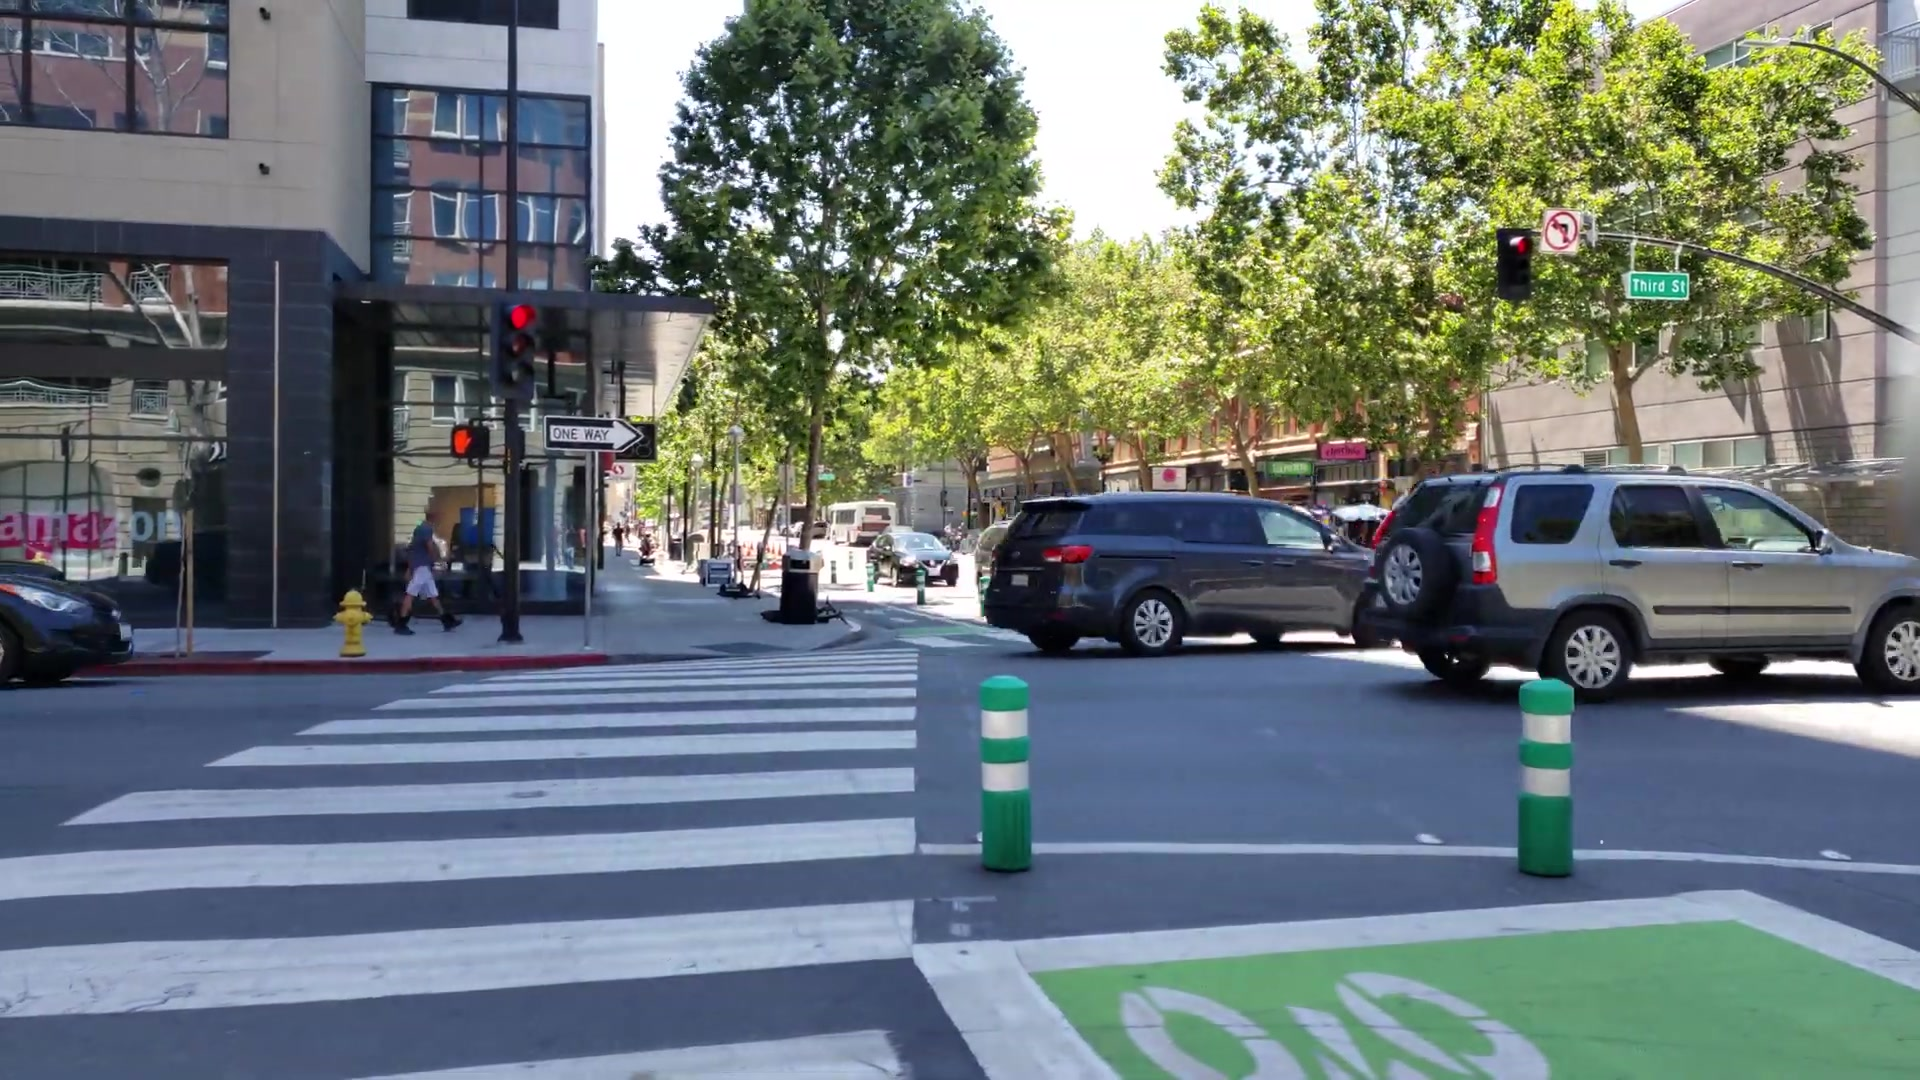vehicle: (1375, 471, 1915, 704), (984, 489, 1378, 649), (869, 527, 957, 588)
